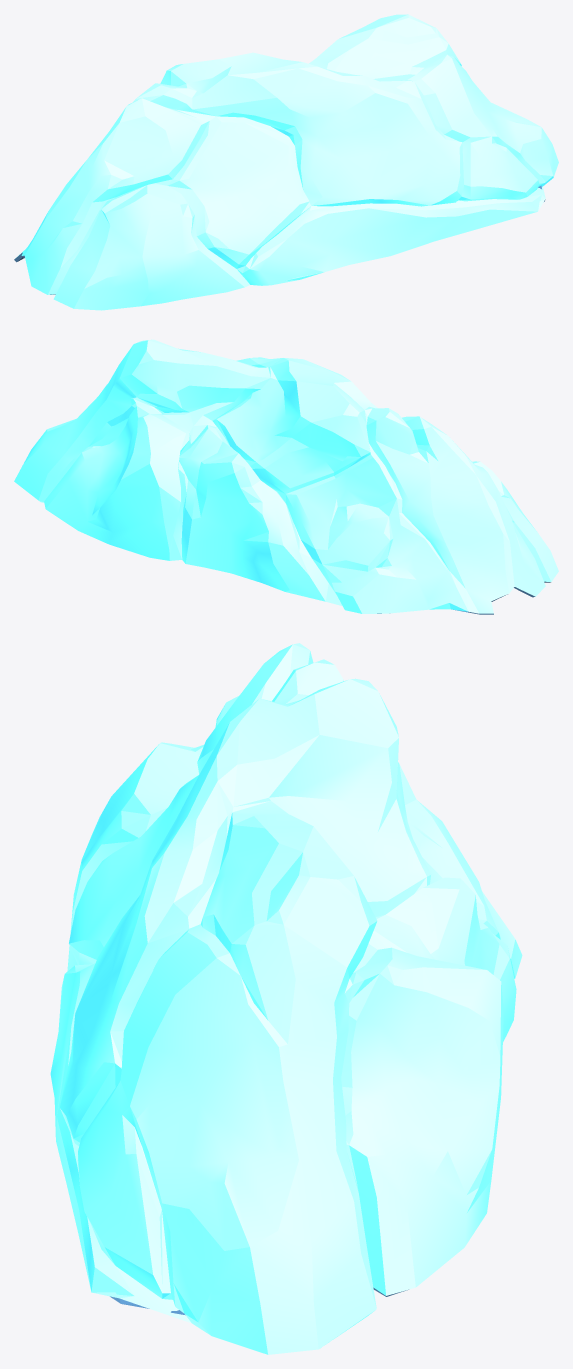
The model's file is background_1.fbx.
The picture shows the model from 3 angles, top to bottom: view 1: azimuth 30°, elevation 25°; view 2: azimuth 150°, elevation 25°; view 3: azimuth 270°, elevation 25°; orthographic projection. The views are drawn at different scales.
Parts seen in each view (by area): view 1: back_1_lp; view 2: back_1_lp; view 3: back_1_lp.
Part boxes in pixels (bbox=[...]): back_1_lp: bbox=[14, 14, 558, 310]; back_1_lp: bbox=[14, 339, 558, 614]; back_1_lp: bbox=[50, 643, 522, 1354].
Size of the model in its own units: 9605 by 3106 by 3793.
